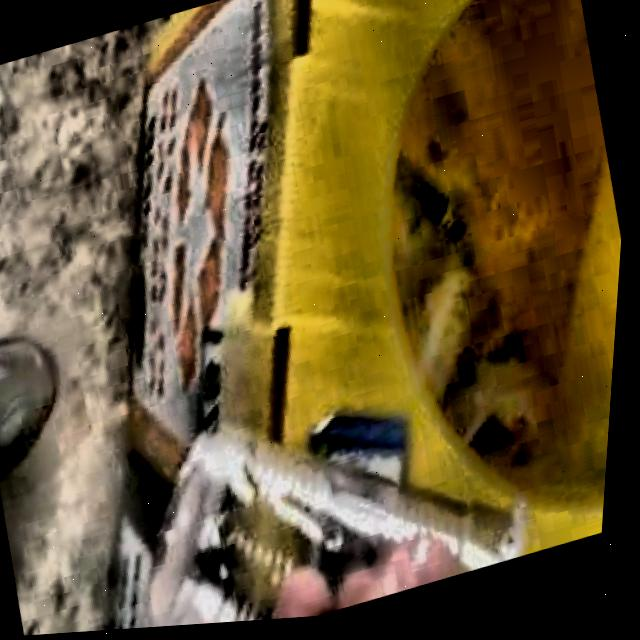plastic: (156, 431, 531, 629)
